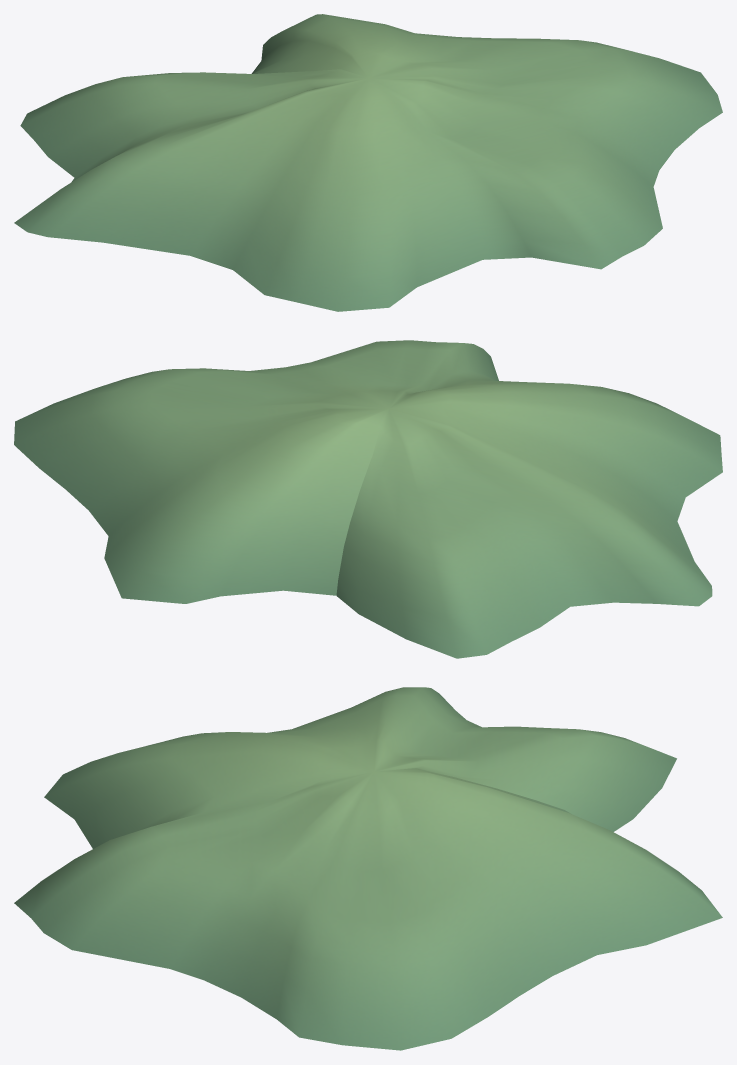
The model's file is Grass1.fbx.
3 renders of one model, top to bottom at view 1: azimuth 30°, elevation 25°; view 2: azimuth 150°, elevation 25°; view 3: azimuth 270°, elevation 25°, orthographic. The views are drawn at different scales.
Visible parts, largest first — view 1: Desert_Village_Set_02:grass2; view 2: Desert_Village_Set_02:grass2; view 3: Desert_Village_Set_02:grass2.
Part boxes in pixels (x1,y1,x2,y2): Desert_Village_Set_02:grass2: [14, 14, 722, 311]; Desert_Village_Set_02:grass2: [14, 340, 722, 658]; Desert_Village_Set_02:grass2: [14, 687, 722, 1050].
Bounding box in the file's own units: 11.74 × 1.51 × 9.85.
1 material, 1 textured.
